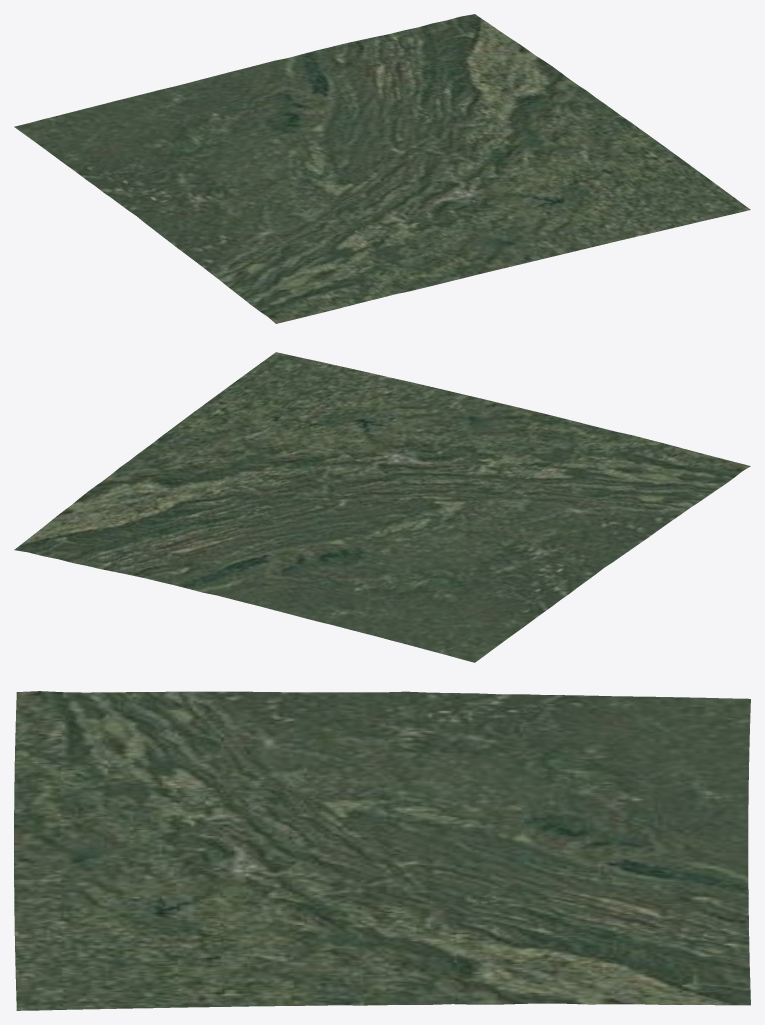
3 views of the same model, one above another, from view 1: azimuth 30°, elevation 25°; view 2: azimuth 150°, elevation 25°; view 3: azimuth 270°, elevation 25° (orthographic). The views are drawn at different scales.
Bounding box in the file's own units: 251655 × 3292 × 247837.
Materials: 1 (1 with a texture image).
